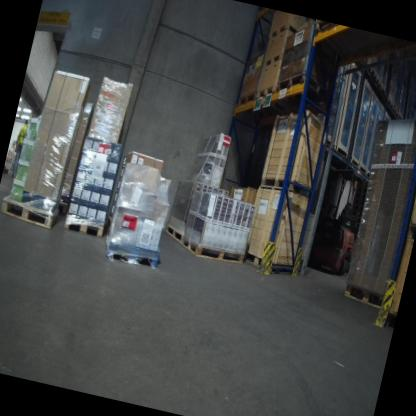forklift: (307, 166, 371, 278)
pallet: (0, 191, 63, 230), (179, 233, 247, 267), (102, 240, 160, 270), (259, 172, 313, 200), (276, 68, 323, 100), (243, 251, 295, 277), (342, 283, 384, 310), (63, 217, 105, 240), (267, 20, 300, 47), (263, 48, 284, 72), (256, 79, 277, 102), (237, 88, 258, 111), (164, 225, 185, 246)
